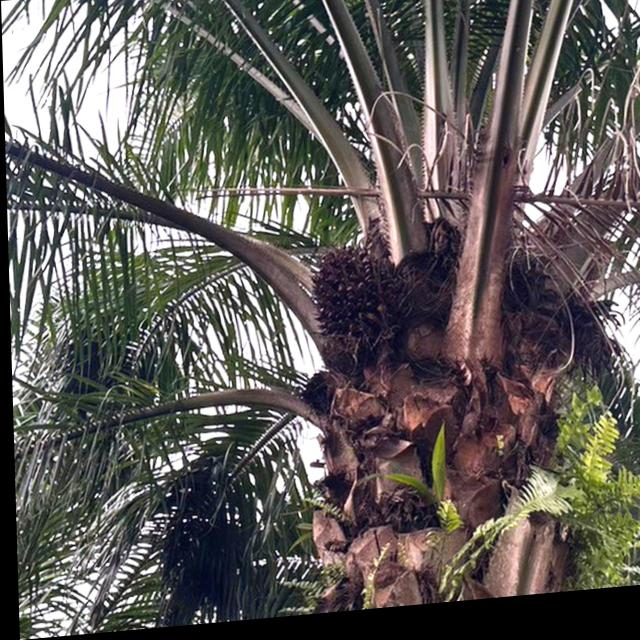ripe: (307, 243, 409, 357)
